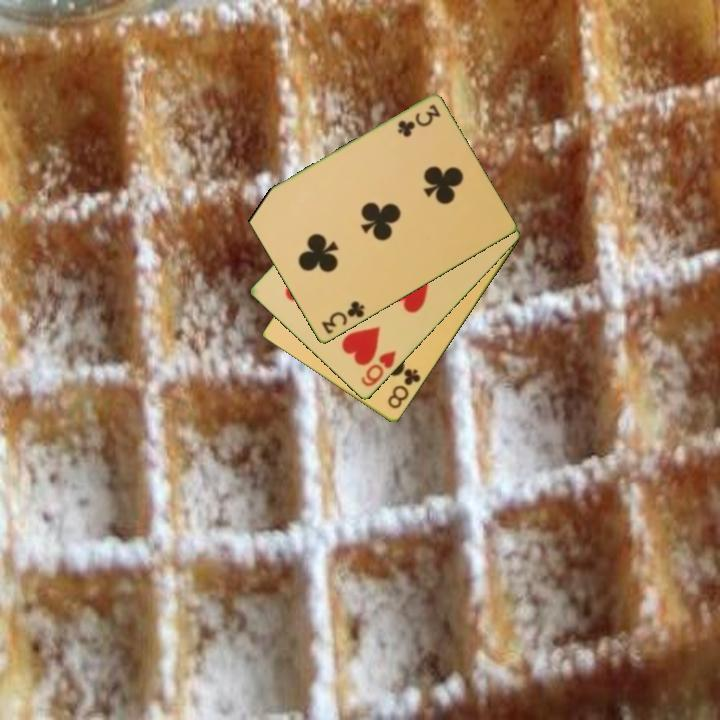3c: (317, 297, 368, 337), (394, 101, 443, 140)
6h: (357, 347, 399, 390)
8c: (384, 365, 424, 412)
